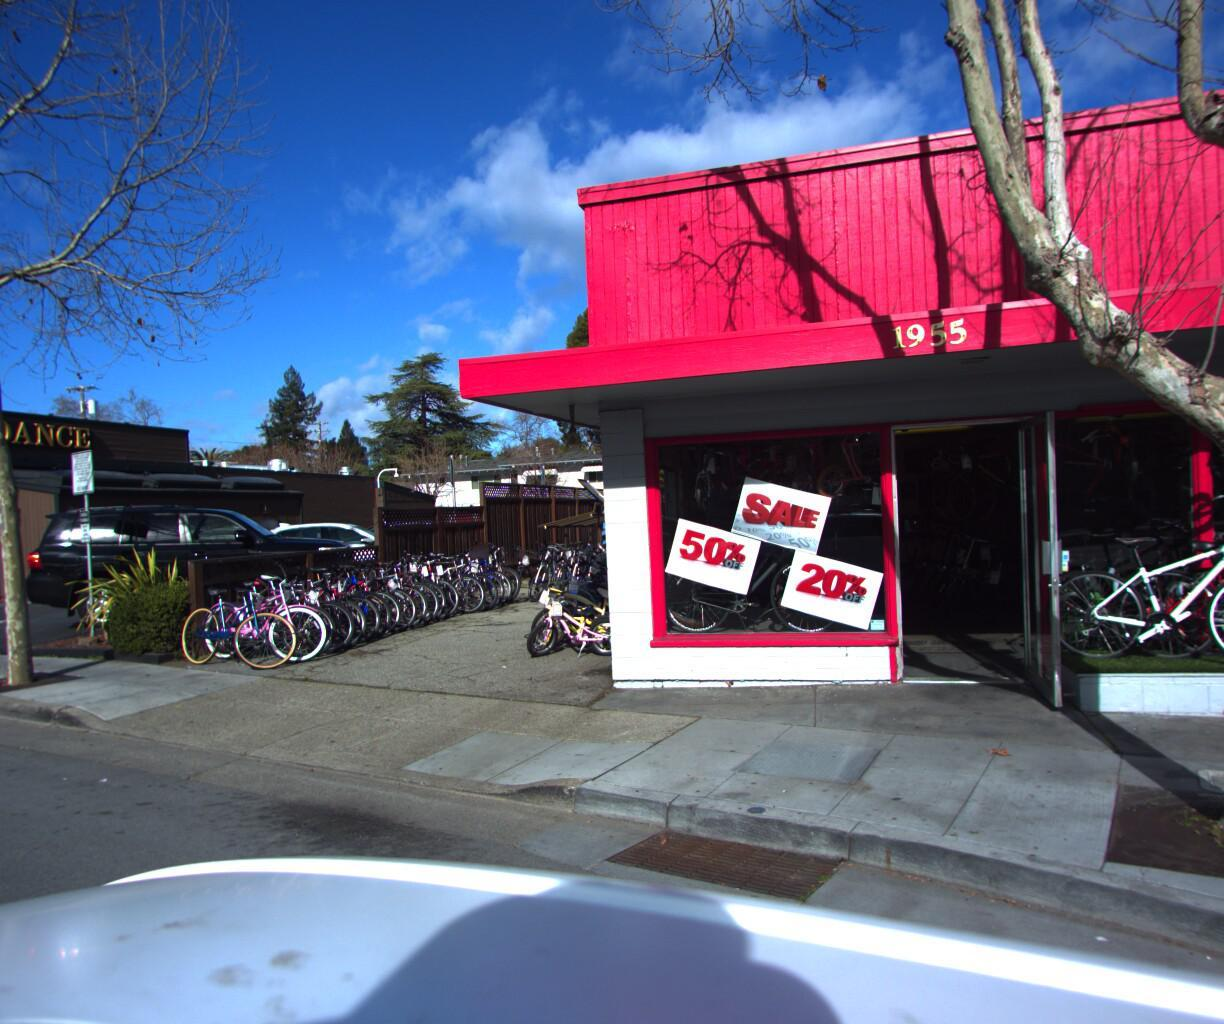bicycle: (548, 532, 675, 635), (544, 537, 666, 633), (184, 576, 306, 666), (563, 546, 687, 631), (560, 532, 676, 622), (550, 560, 673, 644), (267, 556, 381, 646), (230, 570, 349, 656), (207, 579, 327, 661), (521, 576, 640, 658), (248, 566, 364, 651), (541, 566, 657, 649), (530, 579, 652, 654), (286, 561, 397, 642), (287, 555, 395, 638), (338, 541, 438, 622), (298, 554, 404, 631), (322, 546, 424, 626), (313, 553, 417, 631), (404, 530, 495, 607), (352, 548, 449, 617), (420, 533, 509, 604), (387, 542, 479, 609), (428, 533, 515, 602), (372, 549, 466, 613), (525, 530, 567, 598), (509, 534, 552, 599), (544, 533, 584, 597), (562, 538, 601, 597)
car: (11, 486, 373, 631), (197, 509, 454, 596)
